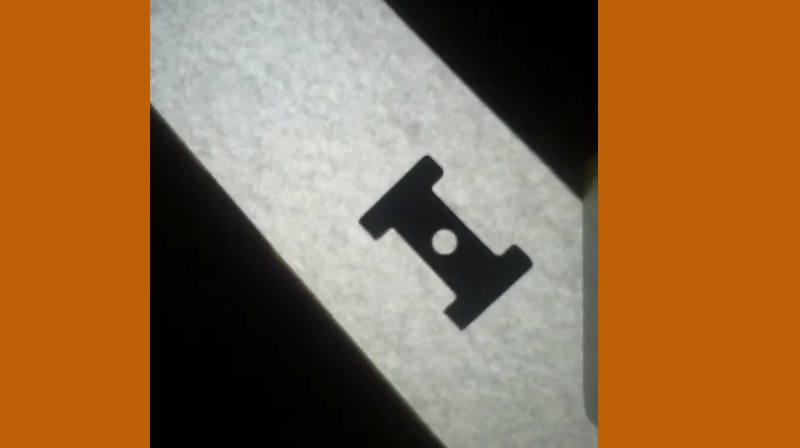O002: (357, 149, 536, 333)
